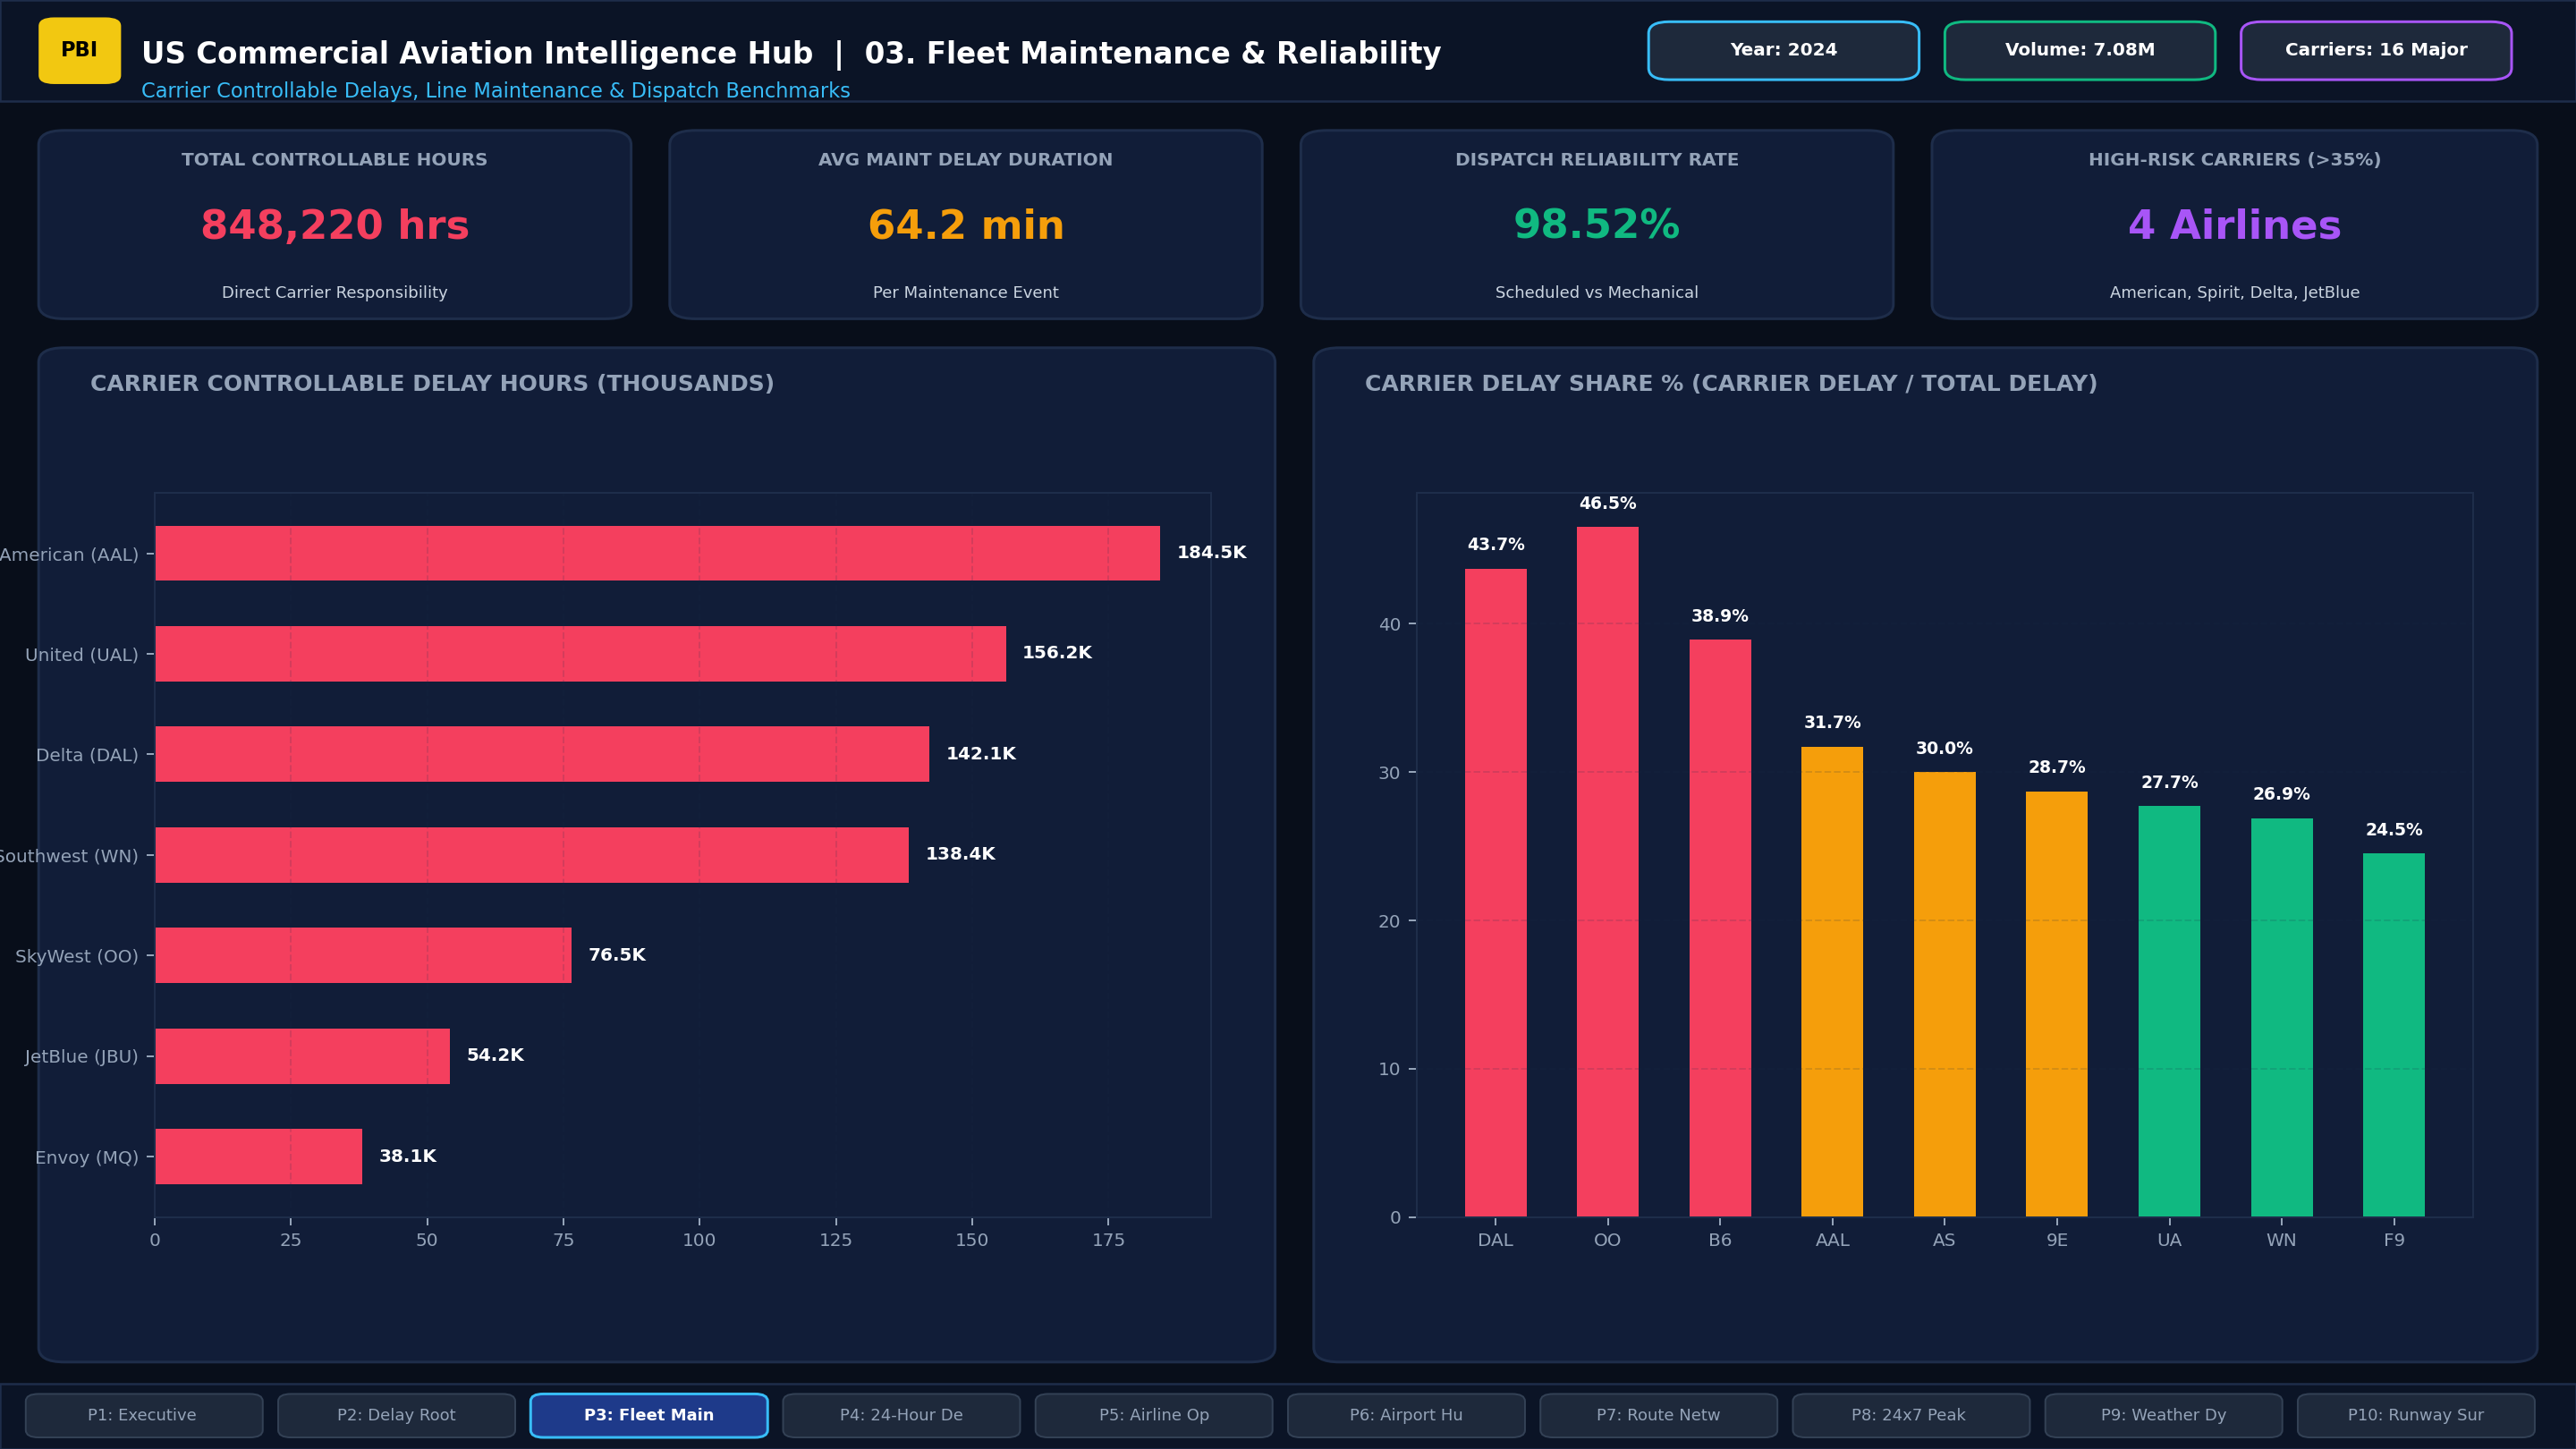

What the dashboard file says about the page in this screenshot:
{"tool":"powerbi","page":{"name":"3. Fleet Maintenance & Reliability","canvas":[1920,1080],"ordinal":2},"visuals":[{"type":"cardVisual","fields":{"Data":["dim_airlines.Carrier Delay Hours"]},"box":[40,40,440,130],"z":1},{"type":"cardVisual","fields":{"Data":["dim_airlines.Carrier Delay Share %"]},"box":[506,40,440,130],"z":2},{"type":"cardVisual","fields":{"Data":["dim_airlines.Avg Departure Delay (min)"]},"box":[972,40,440,130],"z":3},{"type":"cardVisual","fields":{"Data":["dim_airlines.Total Flights"]},"box":[1438,40,440,130],"z":4},{"type":"clusteredBarChart","title":"Carrier Technical & Turnaround Maintenance Hours","fields":{"Category":["dim_airlines.AirlineName"],"Y":["dim_airlines.Carrier Delay Hours"]},"box":[40,200,720,480],"z":5},{"type":"clusteredColumnChart","title":"Carrier Delay Share % vs 32.2% Benchmark","fields":{"Category":["dim_airlines.CarrierCode"],"Y":["dim_airlines.Carrier Delay Share %"]},"box":[780,200,700,480],"z":6},{"type":"tableEx","title":"Carrier Technical Reliability & Fleet Maintenance Matrix","fields":{"Values":["dim_airlines.CarrierCode","dim_airlines.AirlineName","dim_airlines.Total Flights","dim_airlines.Carrier Delay Hours","dim_airlines.Carrier Delay Share %","dim_airlines.Avg Departure Delay (min)"]},"box":[40,700,1440,340],"z":7},{"type":"slicer","title":"Select Carrier","fields":{"Values":["dim_airlines.AirlineName"]},"box":[1500,200,380,840],"z":8}]}

Visuals, with their boxes on the page's 1920x1080 design canvas (x1, y1, x2, y2). These are canvas units, not pixel positions in the 2576x1449 screenshot, which may show the page scaled, cropped or inside an application window:
cardVisual - dim_airlines.Carrier Delay Hours: rect(40, 40, 480, 170)
cardVisual - dim_airlines.Carrier Delay Share %: rect(506, 40, 946, 170)
cardVisual - dim_airlines.Avg Departure Delay (min): rect(972, 40, 1412, 170)
cardVisual - dim_airlines.Total Flights: rect(1438, 40, 1878, 170)
"Carrier Technical & Turnaround Maintenance Hours" clusteredBarChart: rect(40, 200, 760, 680)
"Carrier Delay Share % vs 32.2% Benchmark" clusteredColumnChart: rect(780, 200, 1480, 680)
"Carrier Technical Reliability & Fleet Maintenance Matrix" tableEx: rect(40, 700, 1480, 1040)
"Select Carrier" slicer: rect(1500, 200, 1880, 1040)
